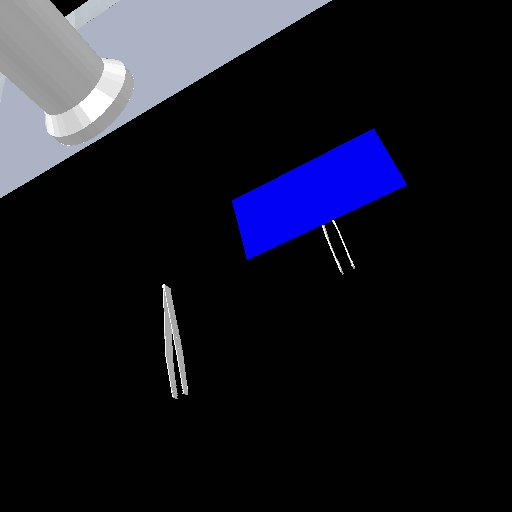pinza: (160, 281, 190, 403), (319, 218, 360, 277)
